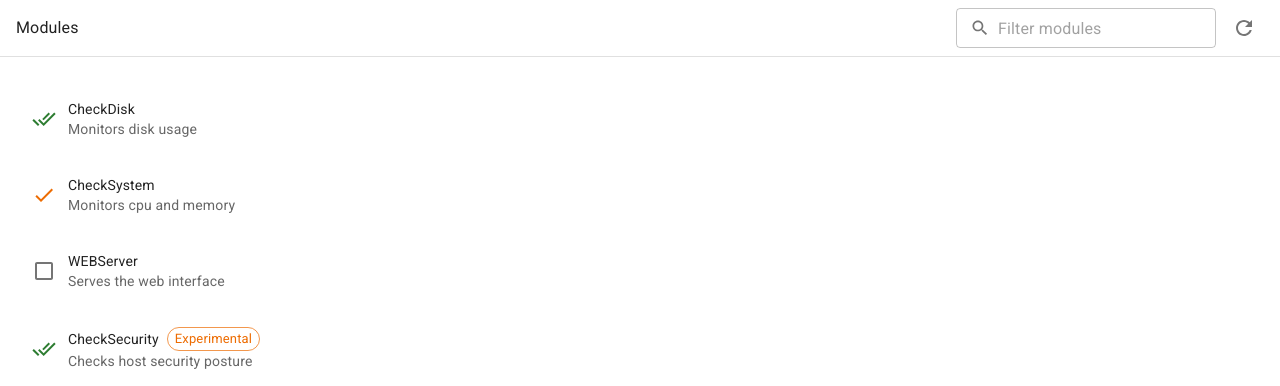
Test: Modules page › filters modules by name and description and shows the hit count
The image size is (1280, 386).
Check: the text "CheckDisk" is shown, box [68,99,135,119]
Type "disk" into the field with placeholder "Filter modules" at (1107, 28), box [998,8,1216,48]
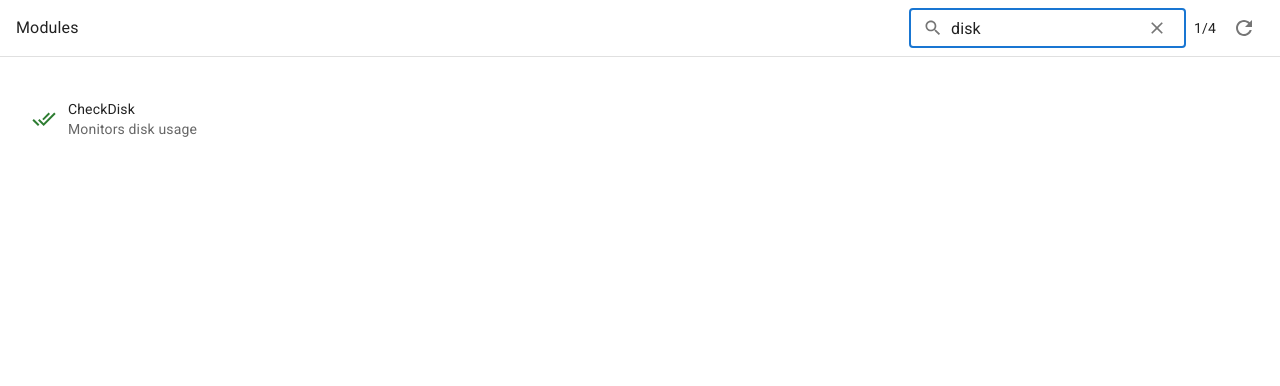
Check: the button "CheckSystem" is gone
Check: the button "WEBServer" is gone
Check: the text "1/4" is shown, box [1194,18,1216,38]
